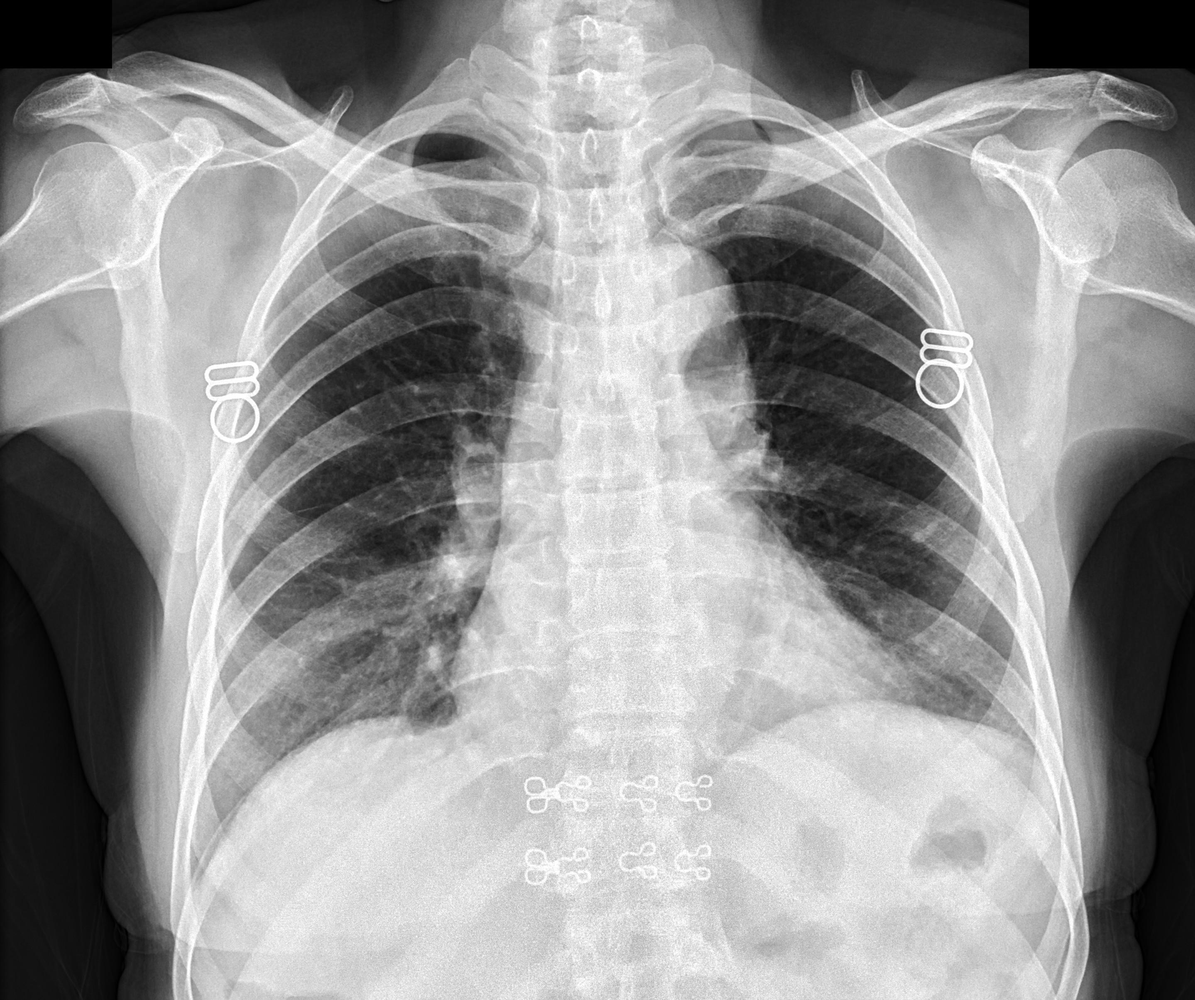Aortic enlargement: (505, 244, 757, 516)
